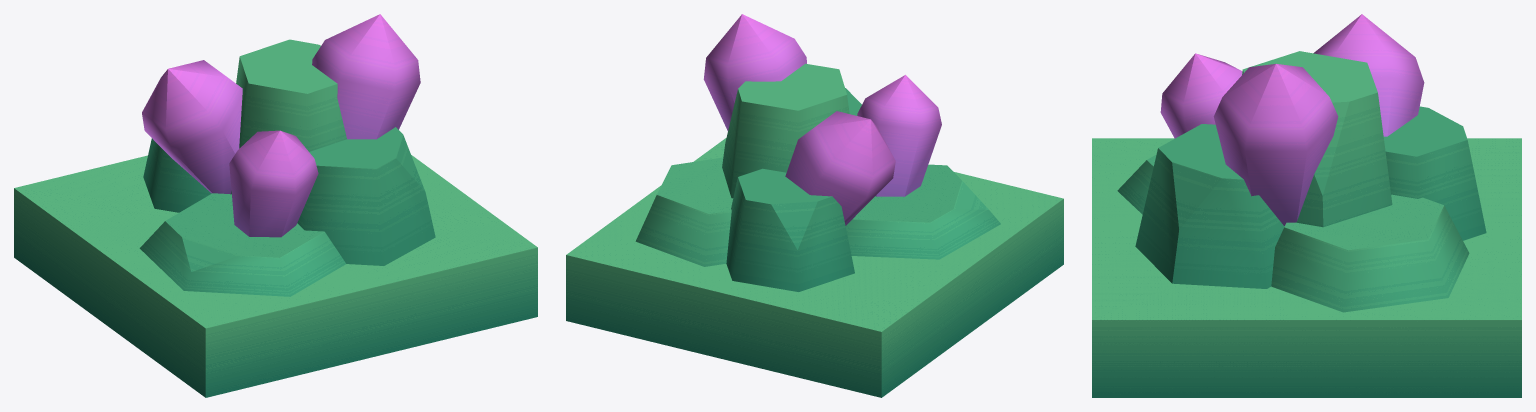
The model's file is tower-defense-kit--tile-crystal.glb.
3 renders of one model, left to right at view 1: azimuth 30°, elevation 25°; view 2: azimuth 150°, elevation 25°; view 3: azimuth 270°, elevation 25°, orthographic. The views are drawn at different scales.
Parts seen in each view (by area): view 1: tile-crystal; view 2: tile-crystal; view 3: tile-crystal.
Boxes of the visible parts, x1,y1,x2,y2 form: tile-crystal: (14,14,537,397); tile-crystal: (566,14,1063,397); tile-crystal: (1092,14,1521,397).
Size of the model in its own units: 1 by 0.7518 by 1.
Materials: 1 (1 with a texture image).
